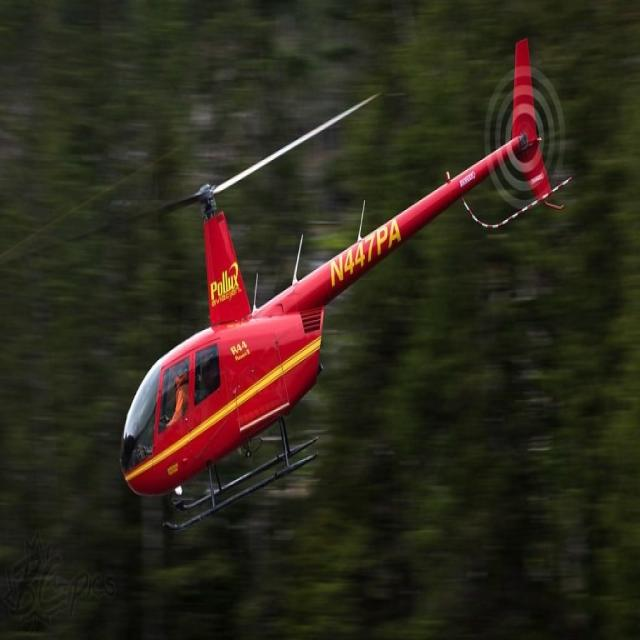CIV_HELO: (117, 37, 559, 535)
